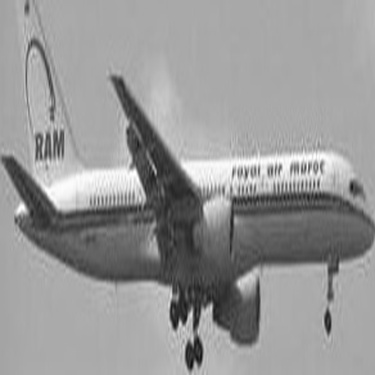airplane: (3, 5, 369, 372)
